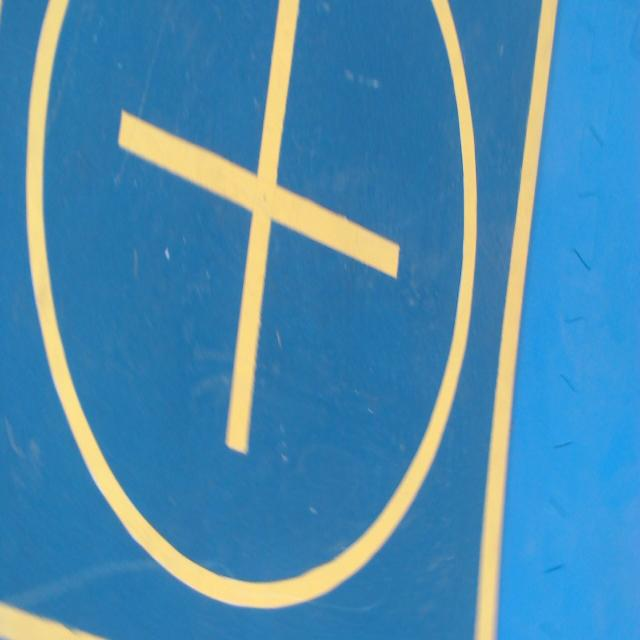base_pouso: (0, 0, 563, 639)
